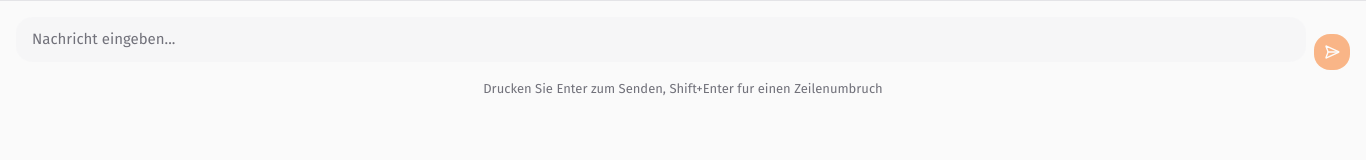
Test case: ChatInput › clears input after sending
This screenshot has width=1366, height=160.
Step 1. Type "Test message" into the text box with test id "chat-input" → (661, 40), box [16,17,1306,62]
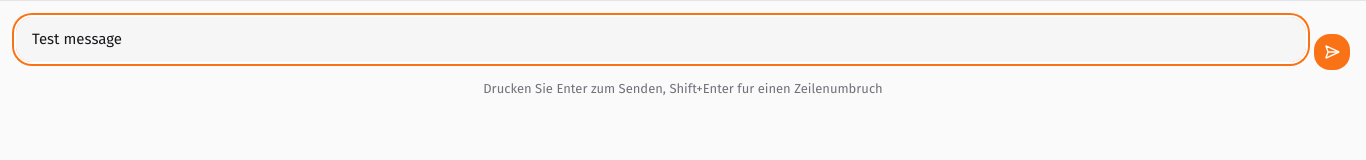
Step 2. Click the button with test id "chat-send-button" → (1332, 52), box [1314,34,1350,70]
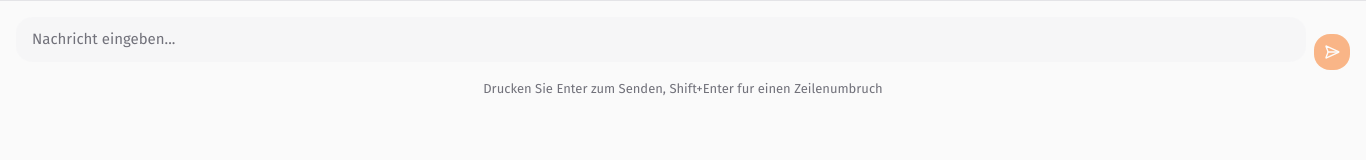
Expected: the text box with test id "chat-input" is empty, [16,17,1306,62]
